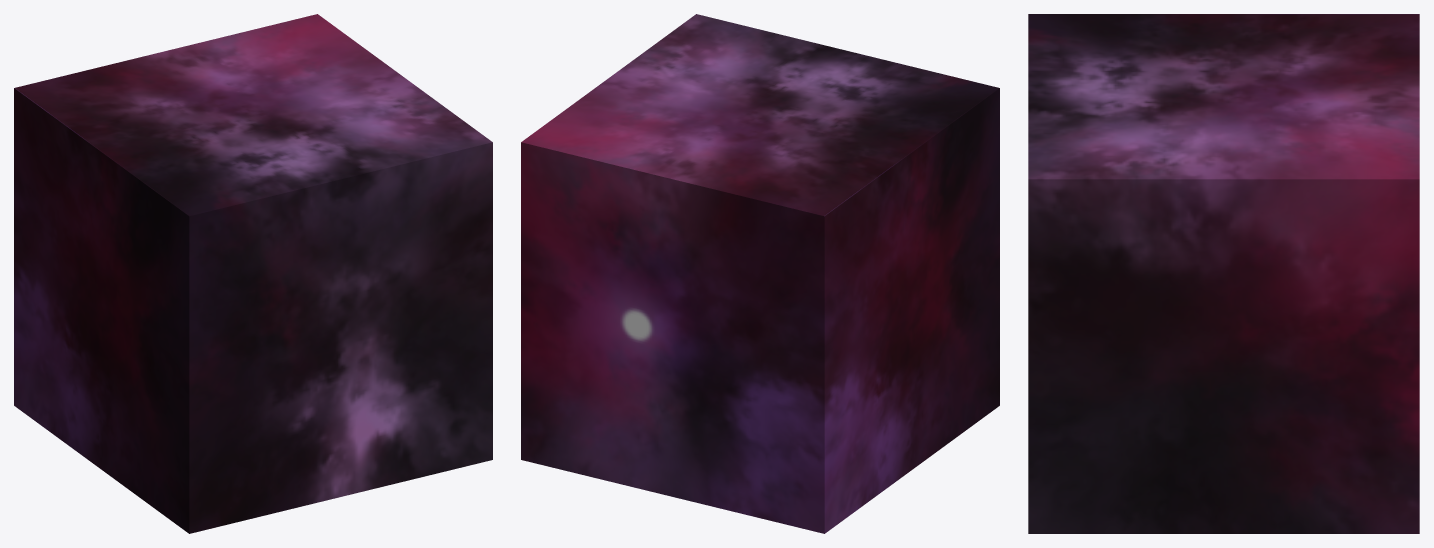
Rendered from SKYBOX2.obj.
3 renders of one model, left to right at view 1: azimuth 30°, elevation 25°; view 2: azimuth 150°, elevation 25°; view 3: azimuth 270°, elevation 25°, orthographic. The views are drawn at different scales.
Visible parts, largest first — view 1: Cube; view 2: Cube; view 3: Cube.
Boxes of the visible parts, x1=… form: Cube: x1=14, y1=14, x2=492, y2=533; Cube: x1=521, y1=14, x2=999, y2=533; Cube: x1=1028, y1=14, x2=1419, y2=533.
Size of the model in its own units: 455 by 455 by 455.
Materials: 1 (1 with a texture image).
